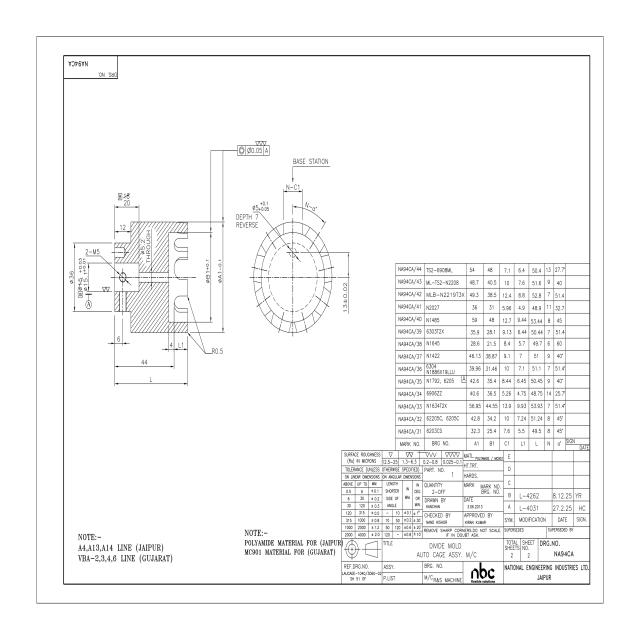dimension: (236, 200, 300, 263), (187, 296, 224, 356), (84, 246, 132, 286), (293, 200, 328, 229), (218, 213, 226, 334), (112, 376, 189, 388), (205, 225, 214, 326), (112, 358, 176, 370), (68, 240, 78, 314), (342, 249, 352, 316), (138, 227, 152, 266), (113, 198, 140, 210), (284, 182, 302, 195), (115, 224, 132, 237), (109, 335, 127, 347), (78, 256, 84, 291), (84, 260, 90, 293), (176, 341, 186, 352), (167, 341, 175, 352)
